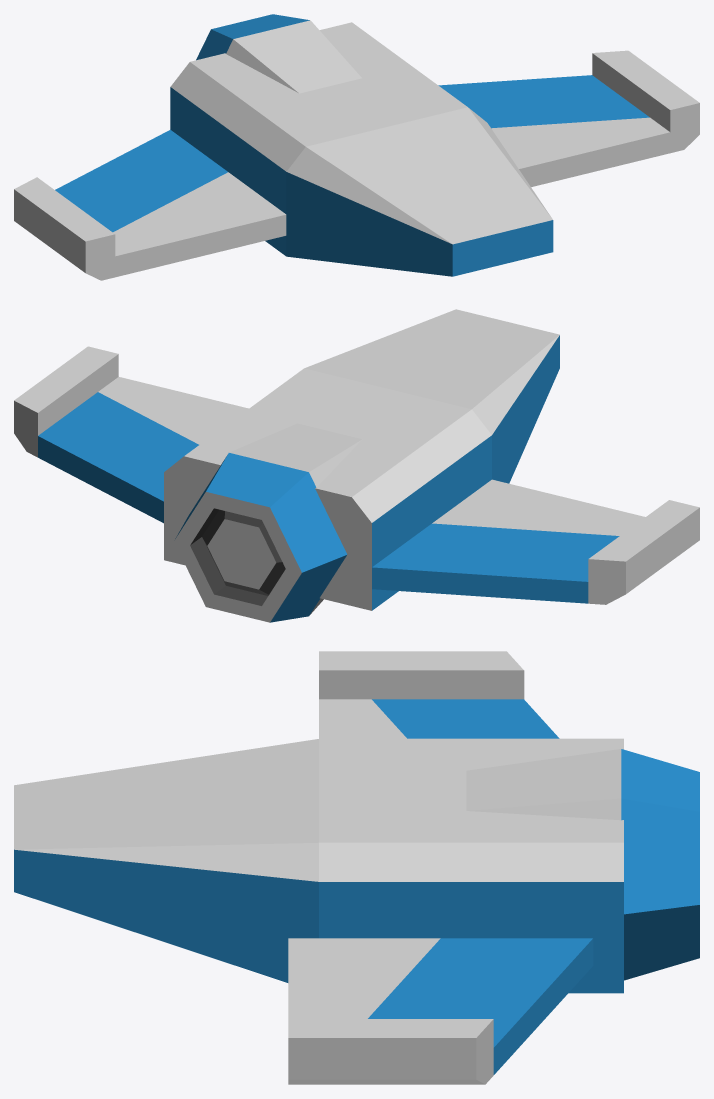
Rendered from HoverCraftOne.fbx.
The picture shows the model from 3 angles, top to bottom: view 1: azimuth 30°, elevation 25°; view 2: azimuth 150°, elevation 25°; view 3: azimuth 270°, elevation 25°; orthographic projection. The views are drawn at different scales.
Parts seen in each view (by area): view 1: plane_tailPoint%_1, wind_endLow_4, plane_tail_0, wind_endLow_6, engine_airplane%_8; view 2: plane_tail_0, wind_endLow_4, engine_airplane%_8, wind_endLow_6, plane_tailPoint%_1; view 3: plane_tail_0, plane_tailPoint%_1, wind_endLow_6, engine_airplane%_8, wind_endLow_4.
Boxes of the visible parts, bbox=[...] form: plane_tailPoint%_1: bbox=[286, 107, 553, 276]; wind_endLow_4: bbox=[14, 129, 286, 280]; plane_tail_0: bbox=[170, 22, 467, 255]; wind_endLow_6: bbox=[438, 50, 699, 187]; engine_airplane%_8: bbox=[196, 14, 361, 93]; plane_tail_0: bbox=[164, 368, 491, 610]; wind_endLow_4: bbox=[372, 479, 699, 604]; engine_airplane%_8: bbox=[174, 423, 361, 622]; wind_endLow_6: bbox=[14, 346, 248, 523]; plane_tailPoint%_1: bbox=[304, 309, 559, 483]; plane_tail_0: bbox=[319, 738, 623, 993]; plane_tailPoint%_1: bbox=[14, 739, 318, 982]; wind_endLow_6: bbox=[288, 938, 593, 1084]; engine_airplane%_8: bbox=[466, 749, 699, 980]; wind_endLow_4: bbox=[319, 651, 559, 738].
Size of the model in its own units: 30 by 6.62 by 22.5.
